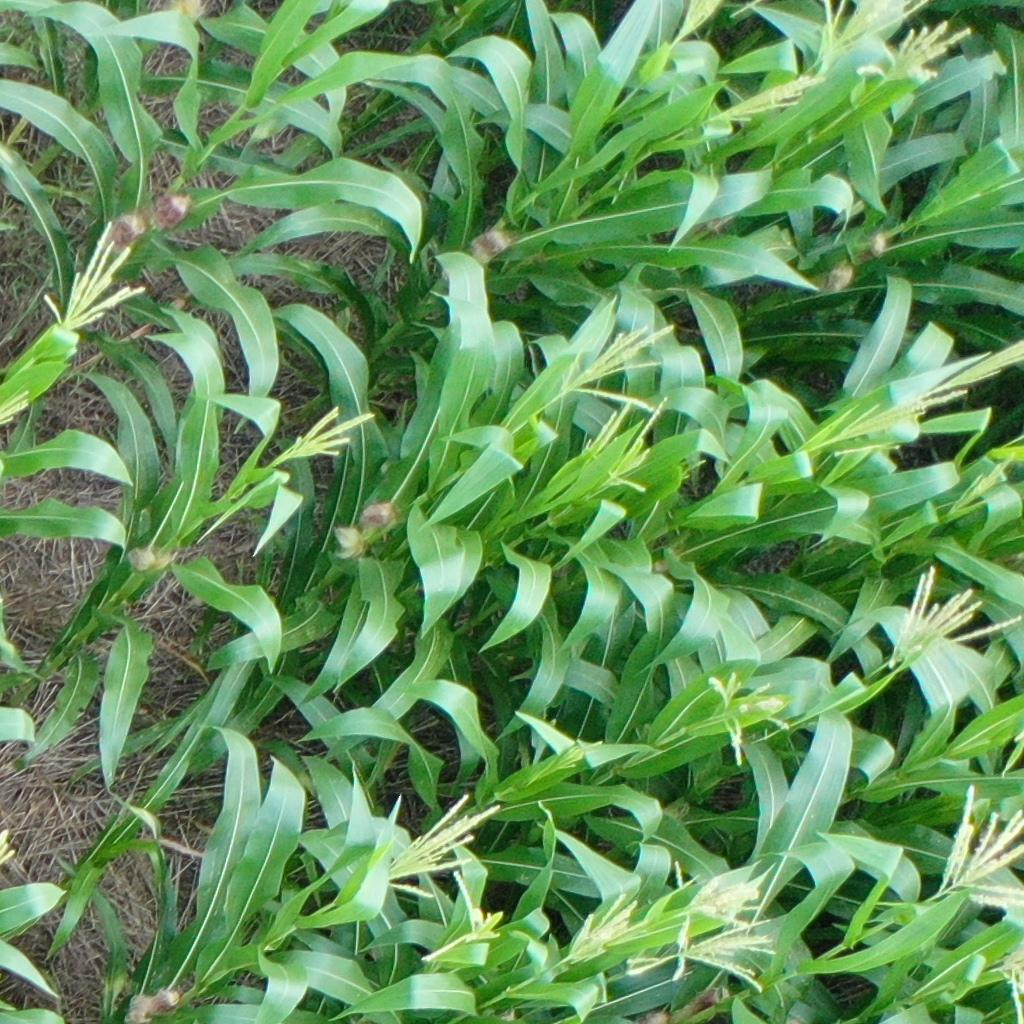Tassel: (891, 559, 1023, 666), (380, 789, 499, 898), (625, 919, 785, 998), (43, 215, 149, 333), (564, 308, 672, 413), (940, 779, 1024, 910), (585, 394, 670, 500), (860, 18, 973, 92), (706, 671, 792, 766), (665, 862, 761, 945), (833, 385, 971, 440), (422, 873, 499, 962), (705, 73, 826, 126), (815, 1, 929, 56), (565, 890, 641, 963), (285, 404, 375, 462), (947, 450, 1017, 516), (938, 337, 1024, 389), (675, 1, 725, 46), (1, 385, 33, 430), (549, 744, 593, 772), (1, 826, 15, 873)
